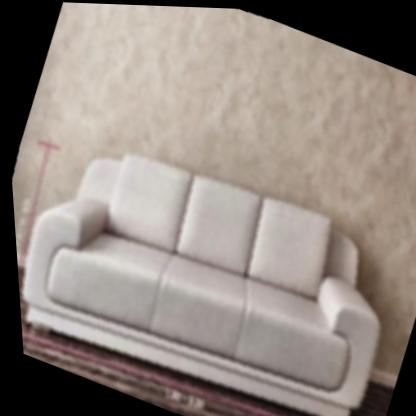Sofa: (5, 102, 416, 416)
